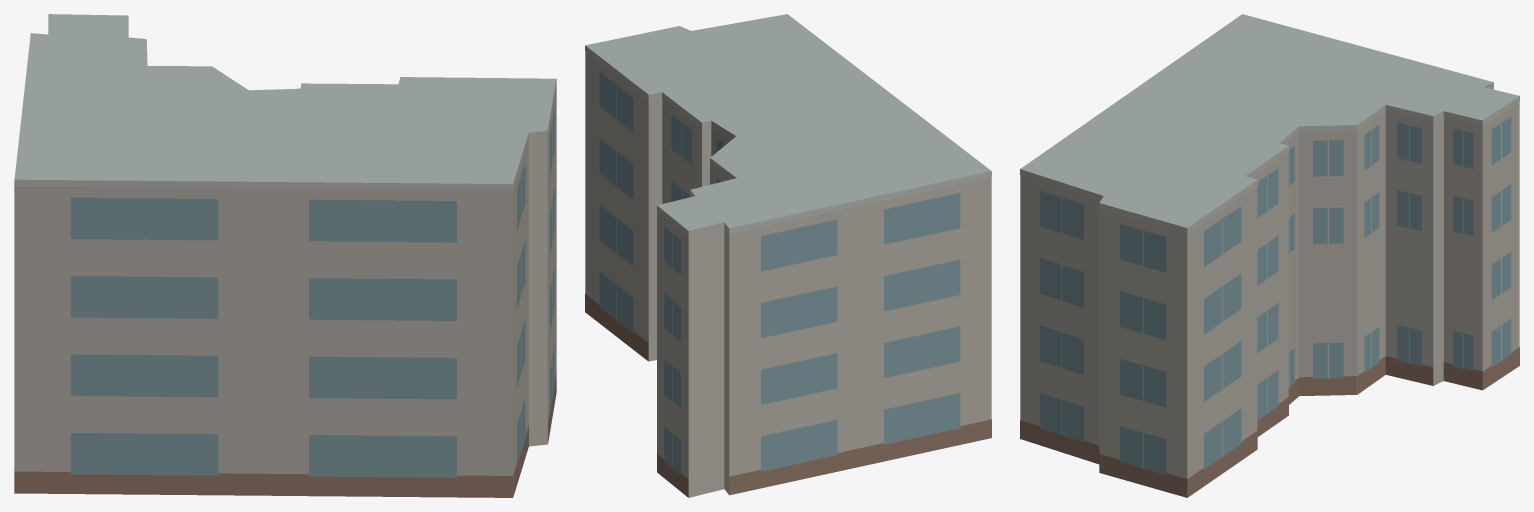
Rendered from survey-upis-32492594.glb.
3 renders of one model, left to right at view 1: azimuth 30°, elevation 25°; view 2: azimuth 150°, elevation 25°; view 3: azimuth 270°, elevation 25°, orthographic. The views are drawn at different scales.
Parts seen in each view (by area): view 1: survey-upis-32492594.tmp; view 2: survey-upis-32492594.tmp; view 3: survey-upis-32492594.tmp.
Boxes of the visible parts, left/top/right/bottom form: survey-upis-32492594.tmp: left=14, top=14, right=556, bottom=497; survey-upis-32492594.tmp: left=585, top=14, right=991, bottom=497; survey-upis-32492594.tmp: left=1020, top=14, right=1519, bottom=497.
Bounding box in the file's own units: 19.03 × 11.18 × 18.77.
